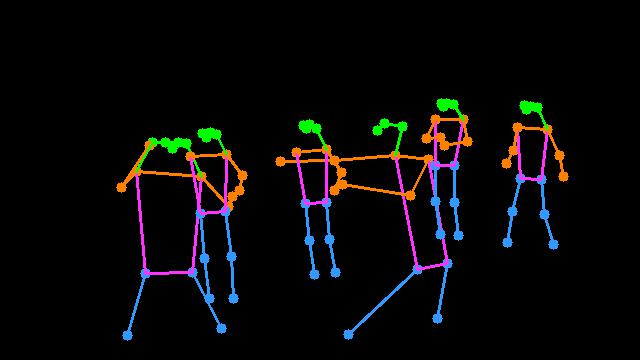normal: (489, 89, 581, 272), (273, 114, 360, 291), (184, 118, 256, 309), (420, 86, 476, 248)
